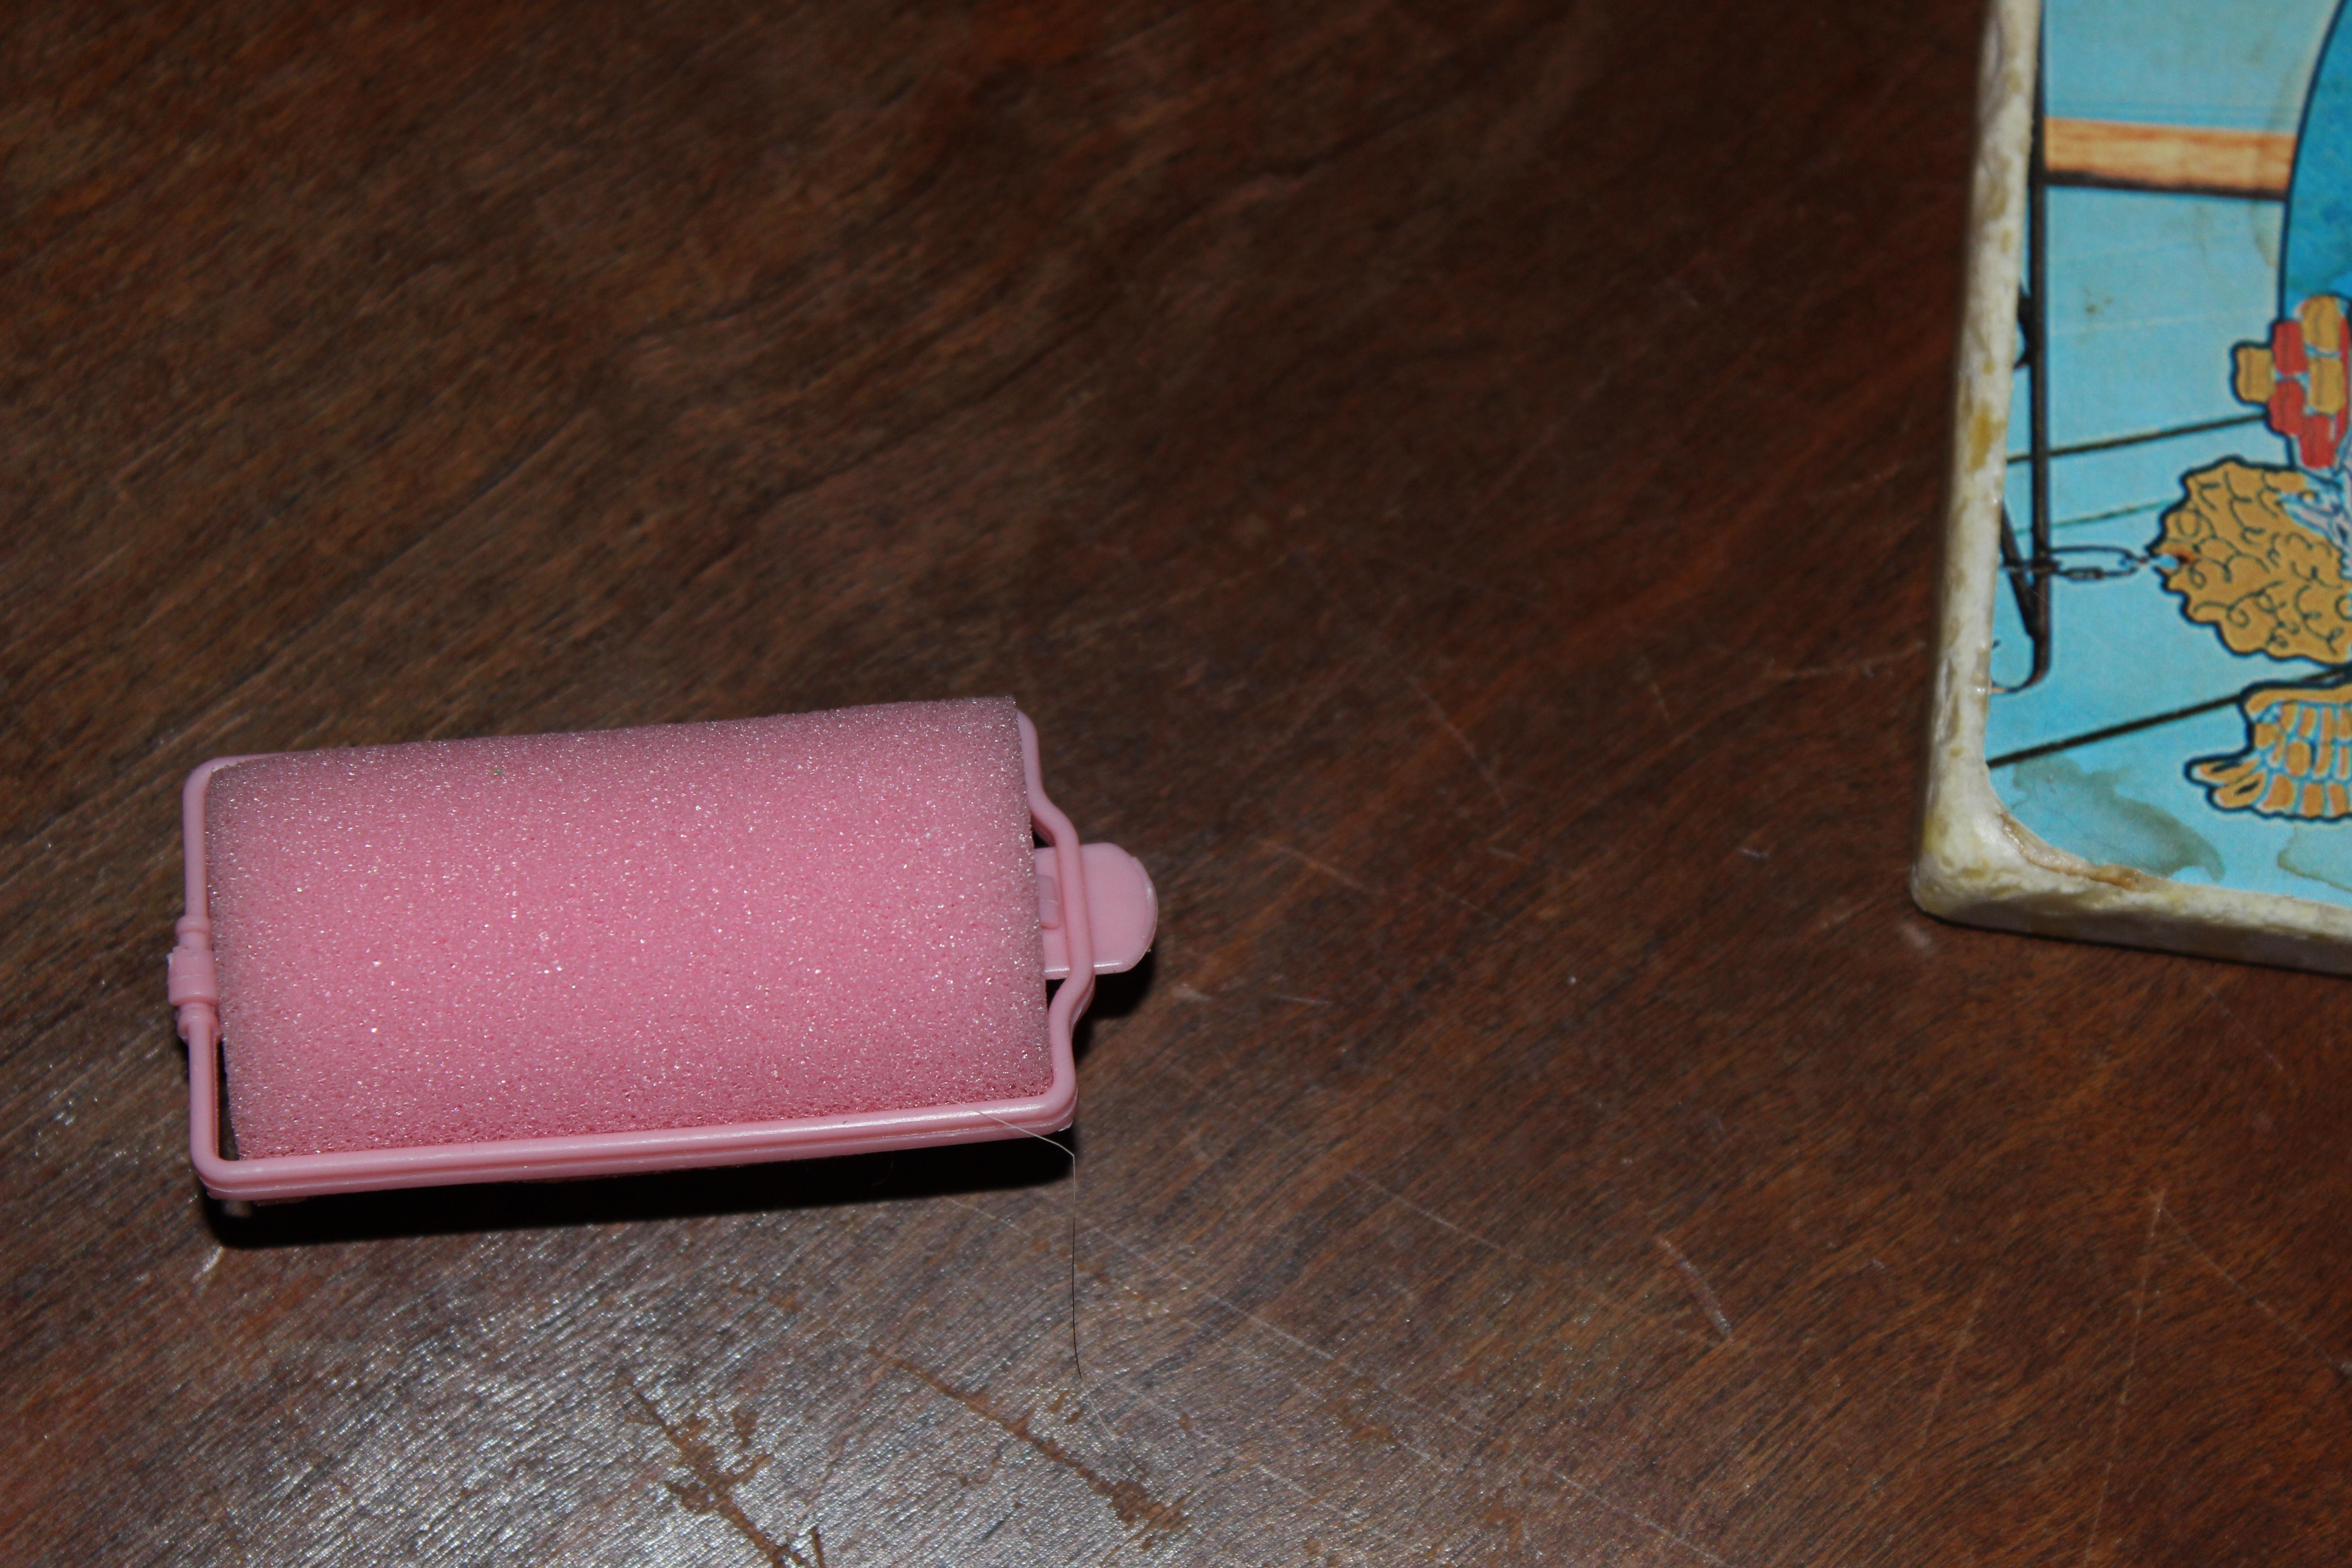hairRoller: (114, 667, 1206, 1286)
